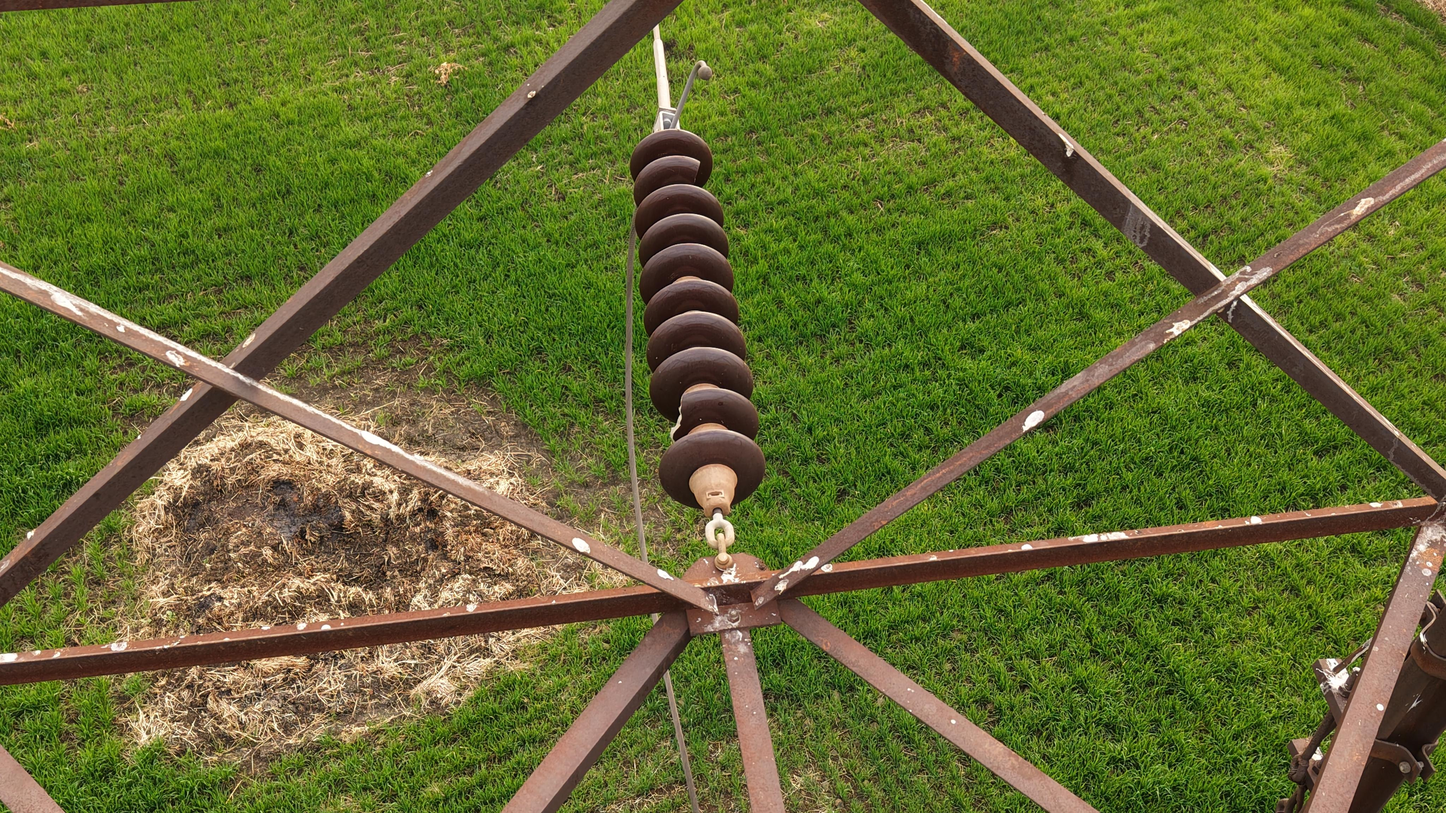broken_insulator: (657, 385, 767, 446), (628, 150, 705, 189)
